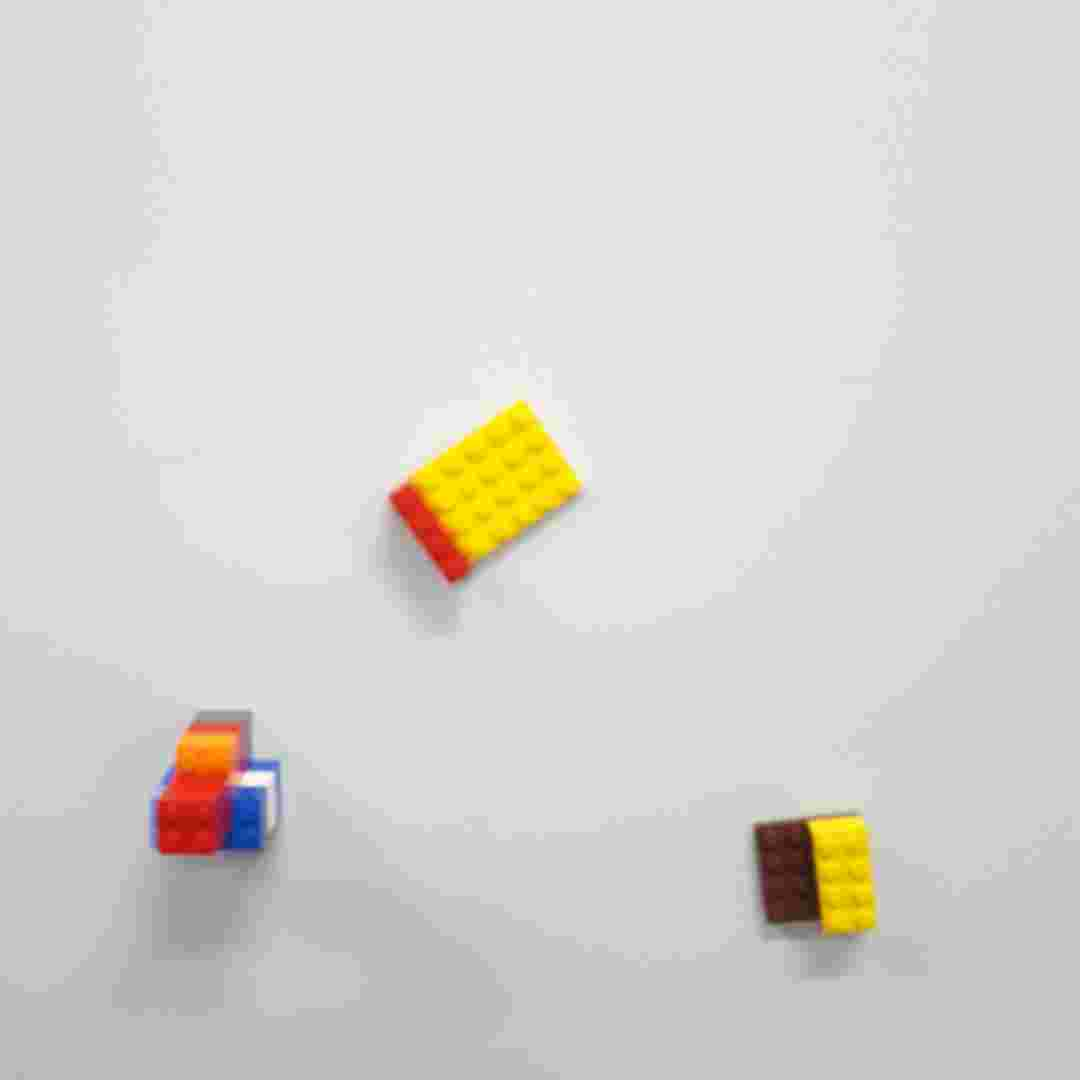LEGO: (384, 399, 593, 584), (148, 709, 286, 856), (748, 811, 881, 938)
